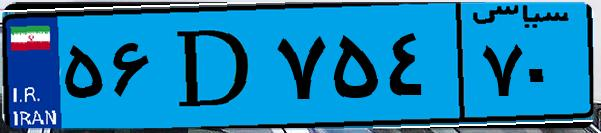0: (525, 38, 570, 115)
4: (385, 28, 445, 110)
5: (330, 28, 385, 110), (57, 26, 110, 100)
6: (110, 28, 158, 98)
7: (270, 28, 330, 110), (475, 38, 525, 113)
D: (158, 12, 270, 120)
